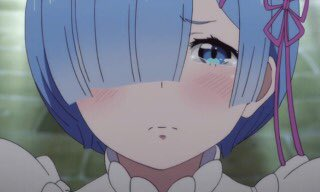rem: (21, 1, 304, 192)
